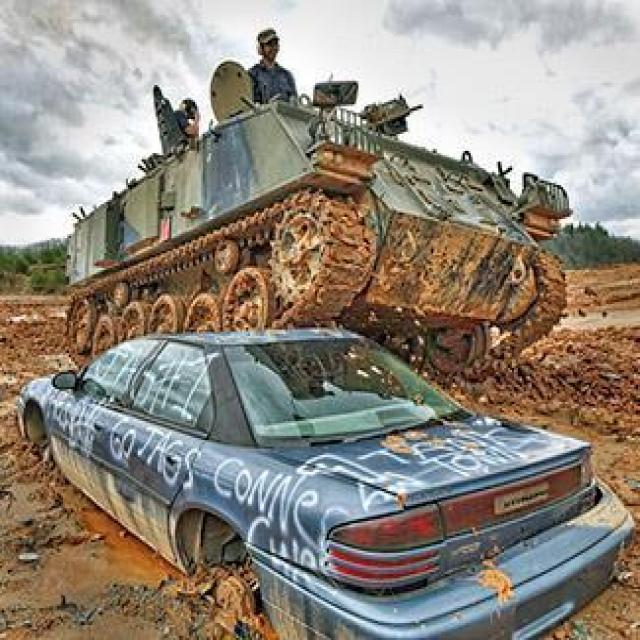Tanks: (50, 67, 564, 322)
